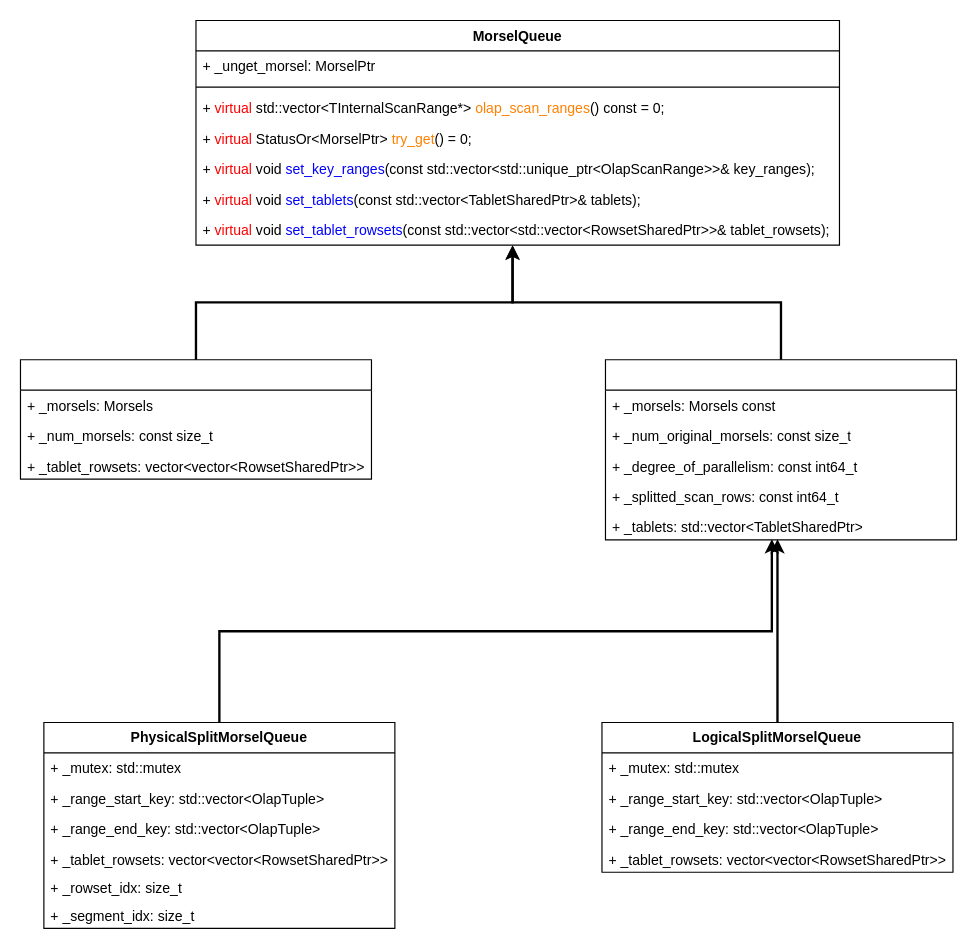
This 977x952 diagram has some shape labels left out. The box of each missing label's shape, as (x1, y1, x2, y2) in pixels:
FixedMorselQueue: (19, 359, 371, 479)
SplitMorselQueue: (604, 359, 956, 540)
